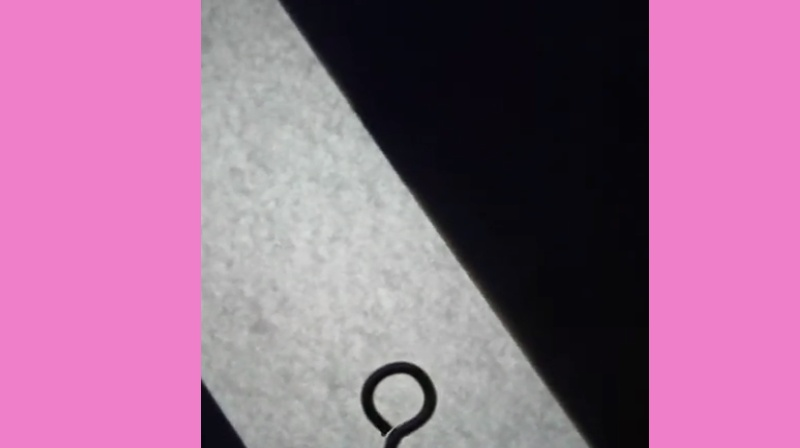O001: (357, 357, 438, 447)
